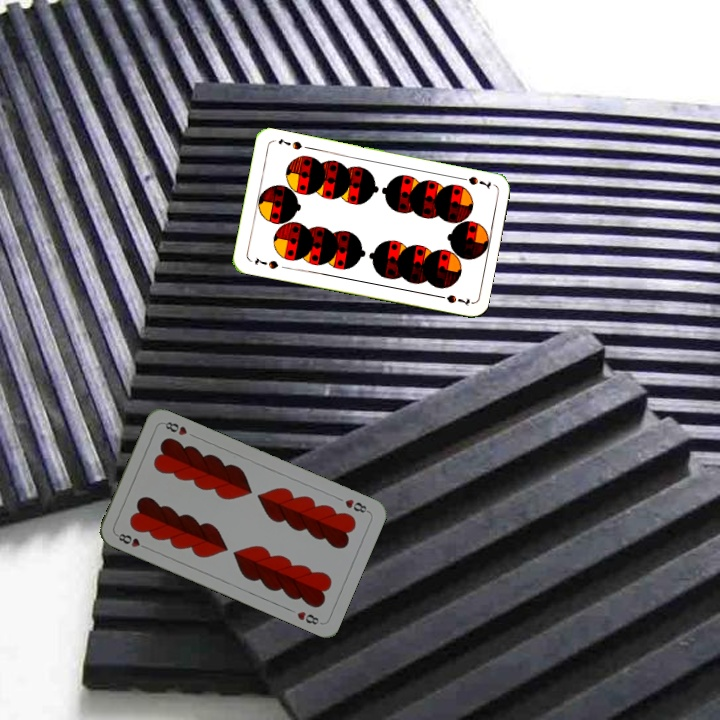H8: (112, 529, 151, 552), (341, 495, 372, 516)
S7: (455, 172, 494, 191), (251, 253, 281, 271)
